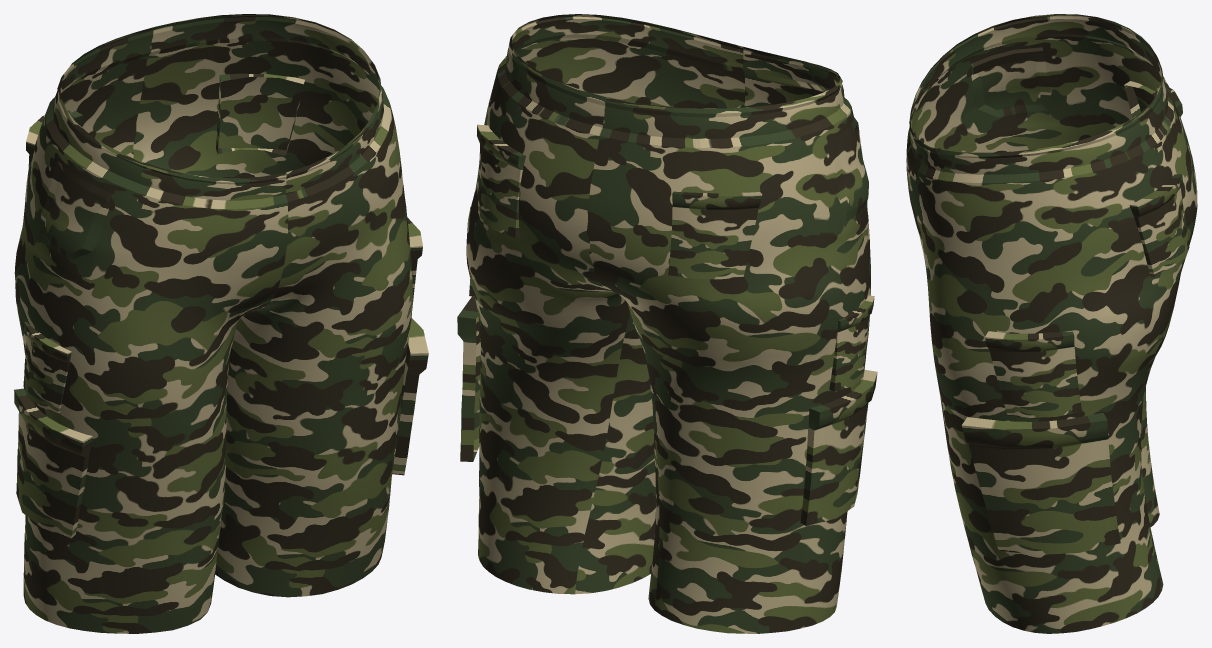
Rendered from Cargo.fbx.
The picture shows the model from 3 angles, left to right: view 1: azimuth 30°, elevation 25°; view 2: azimuth 150°, elevation 25°; view 3: azimuth 270°, elevation 25°; orthographic projection. The views are drawn at different scales.
Visible parts, largest first — view 1: pasted__Boy_Character_Generic_Jeans, group5_pasted__Boy_Character_Generic_Jeans2; view 2: pasted__Boy_Character_Generic_Jeans, group5_pasted__Boy_Character_Generic_Jeans2; view 3: pasted__Boy_Character_Generic_Jeans, group5_pasted__Boy_Character_Generic_Jeans2.
Boxes of the visible parts, x1,y1,x2,y2 form: pasted__Boy_Character_Generic_Jeans: (14,14,412,633); group5_pasted__Boy_Character_Generic_Jeans2: (14,73,428,538); pasted__Boy_Character_Generic_Jeans: (466,14,870,633); group5_pasted__Boy_Character_Generic_Jeans2: (457,124,877,525); pasted__Boy_Character_Generic_Jeans: (906,14,1197,633); group5_pasted__Boy_Character_Generic_Jeans2: (961,81,1189,554).
Bounding box in the file's own units: 43.06 × 56.68 × 30.66.
1 material, 1 textured.
